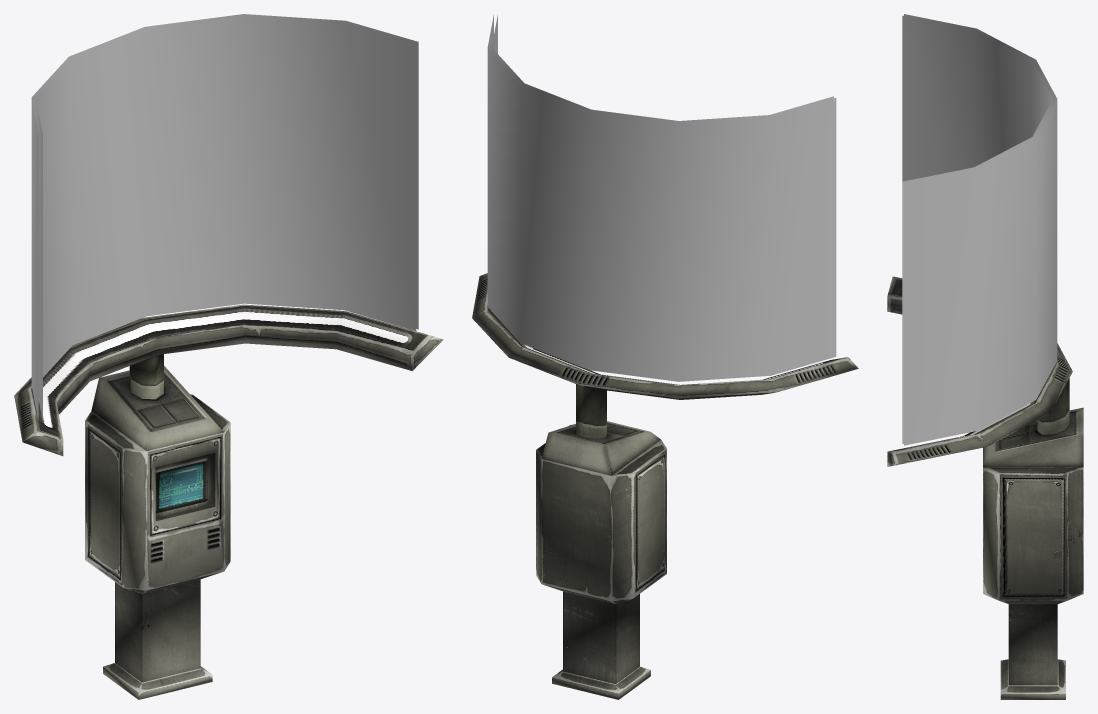
The model's file is Holographic-Screen-05.fbx.
3 renders of one model, left to right at view 1: azimuth 30°, elevation 25°; view 2: azimuth 150°, elevation 25°; view 3: azimuth 270°, elevation 25°, orthographic. The views are drawn at different scales.
Visible parts, largest first — view 1: Screen05, Projector05; view 2: Screen05, Projector05; view 3: Screen05, Projector05.
Part boxes in pixels (<box>): Screen05: <box>31,14,418,421</box>; Projector05: <box>14,304,443,699</box>; Screen05: <box>487,15,836,381</box>; Projector05: <box>472,273,858,699</box>; Screen05: <box>902,14,1057,445</box>; Projector05: <box>887,276,1083,699</box>.
Bounding box in the file's own units: 3.26 × 4.74 × 1.44.
